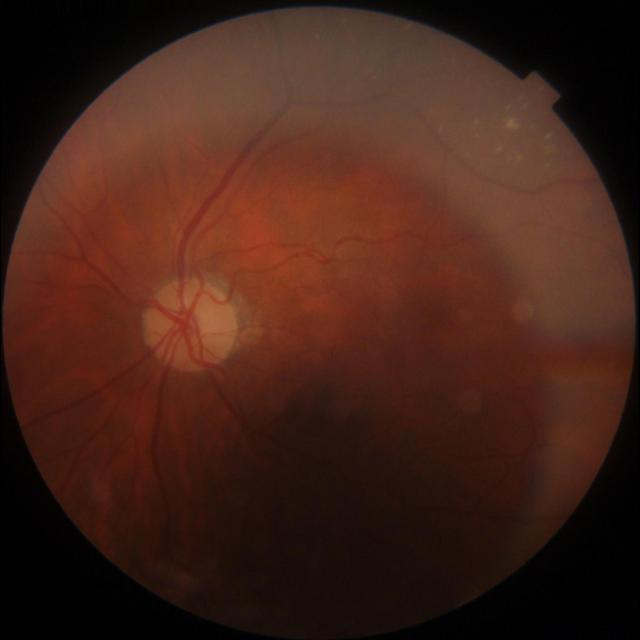OD: (146, 280, 242, 374)
